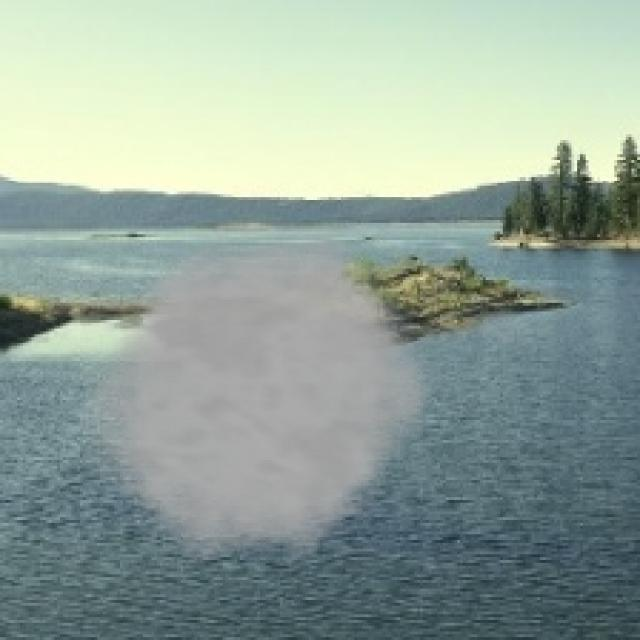Smoke: (68, 217, 443, 566)
